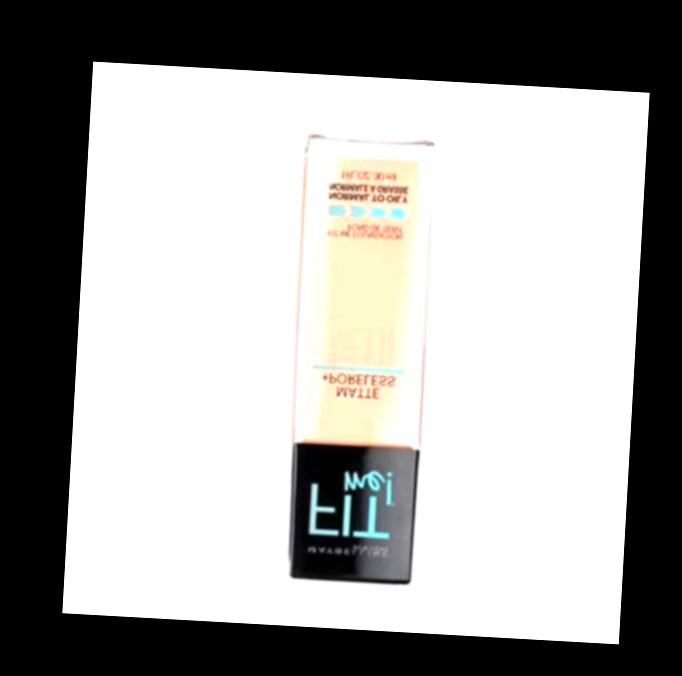cosmetic: (287, 125, 438, 586)
